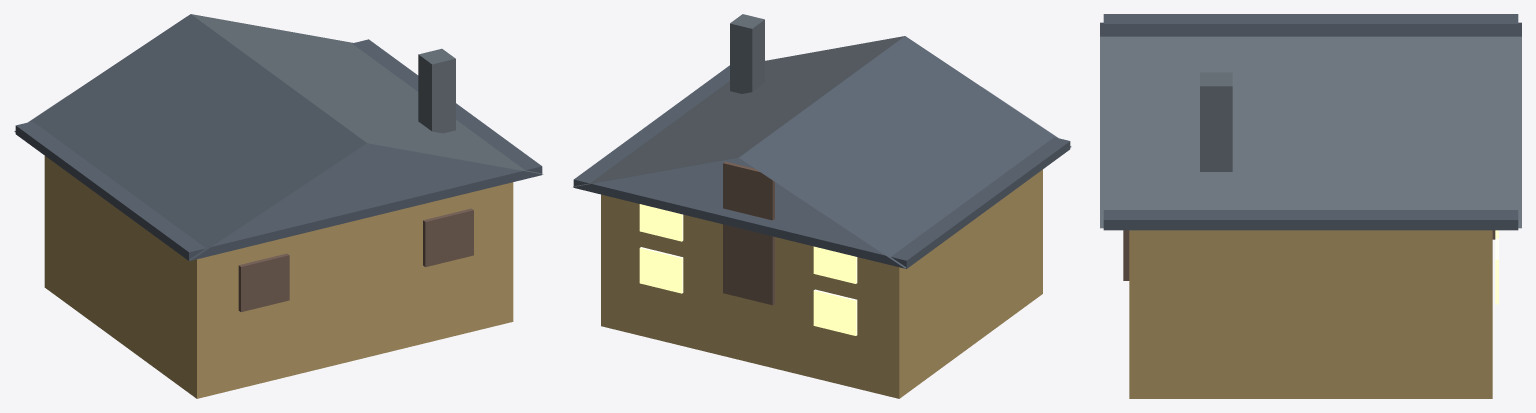
Rendered from house_yellow.glb.
3 views of the same model, side by side, from view 1: azimuth 30°, elevation 25°; view 2: azimuth 150°, elevation 25°; view 3: azimuth 270°, elevation 25° (orthographic). The views are drawn at different scales.
Parts seen in each view (by area): view 1: house_yellow; view 2: house_yellow; view 3: house_yellow.
Part boxes in pixels (x1,y1,x2,y2): house_yellow: (14,14,543,398); house_yellow: (573,14,1071,398); house_yellow: (1100,14,1521,398).
Bounding box in the file's own units: 6.7 × 4.5 × 5.8.
